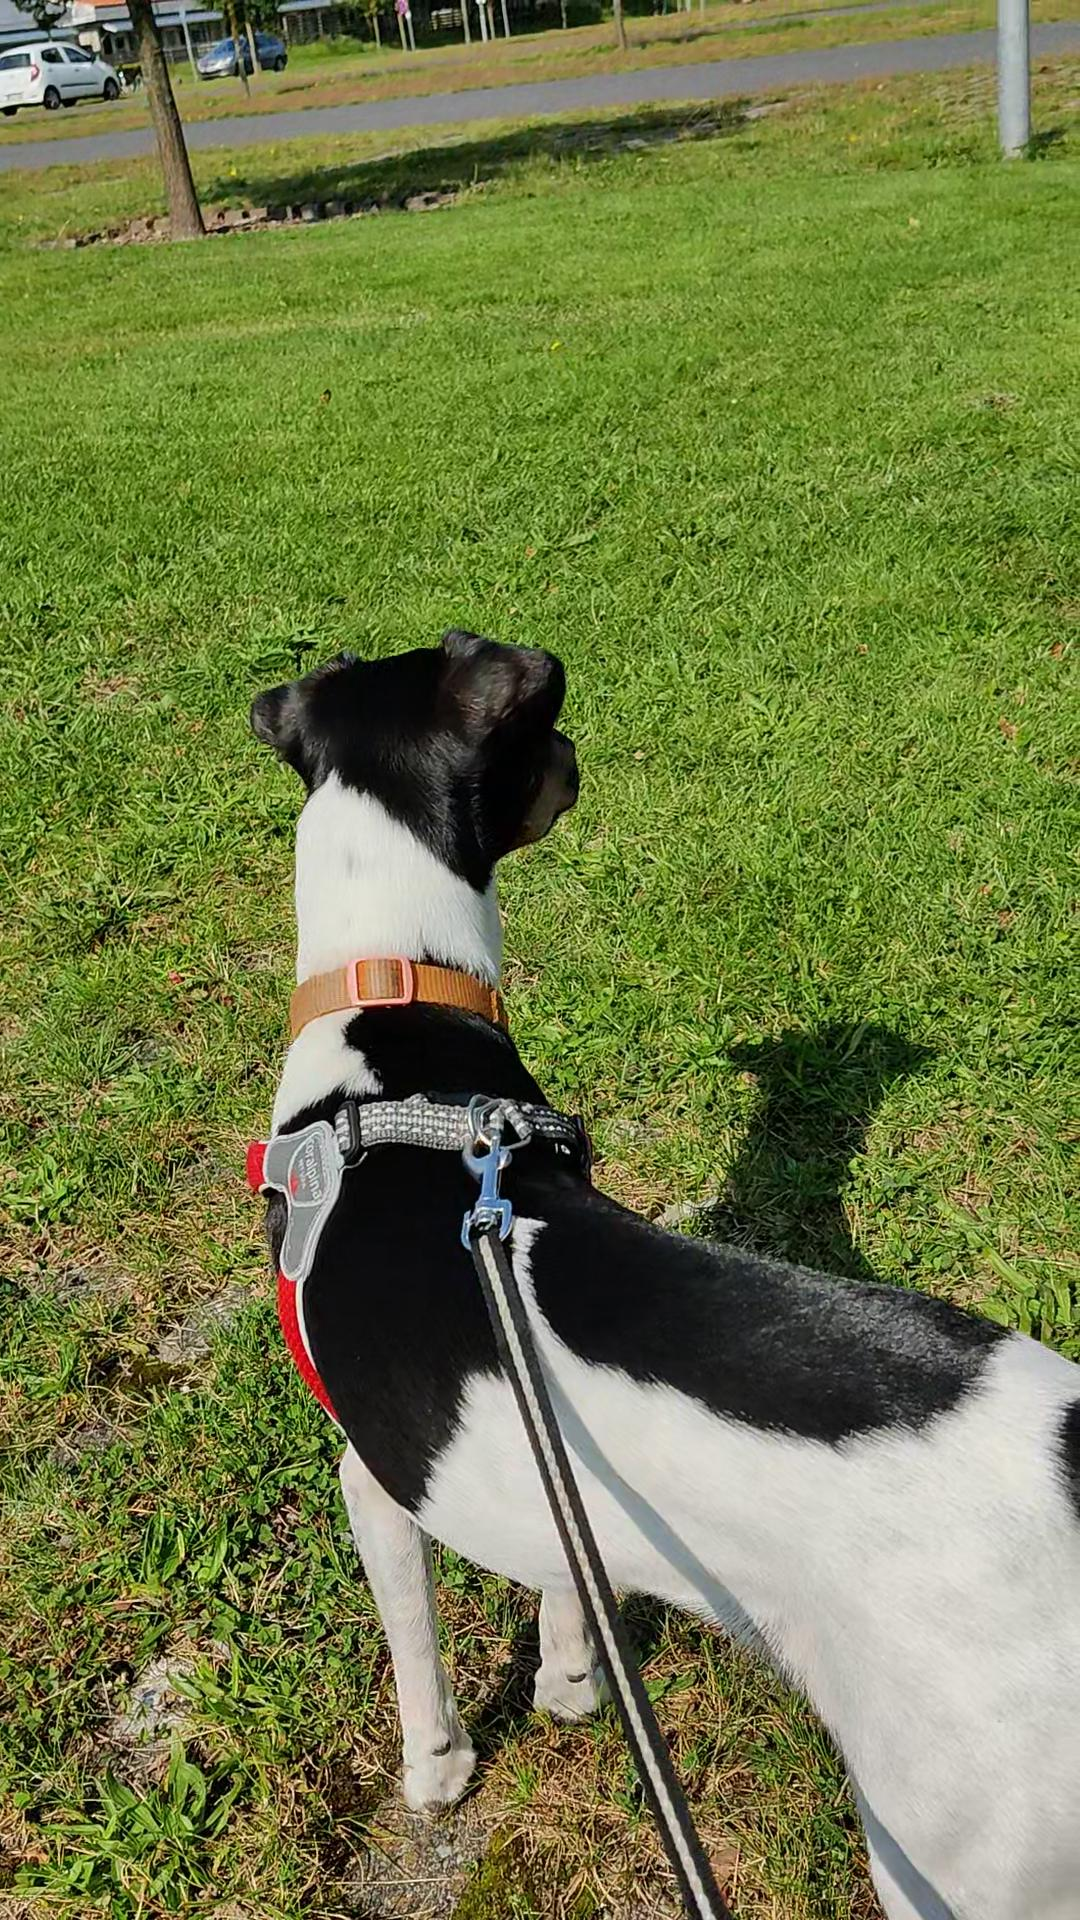Dog: (222, 600, 1079, 1919)
